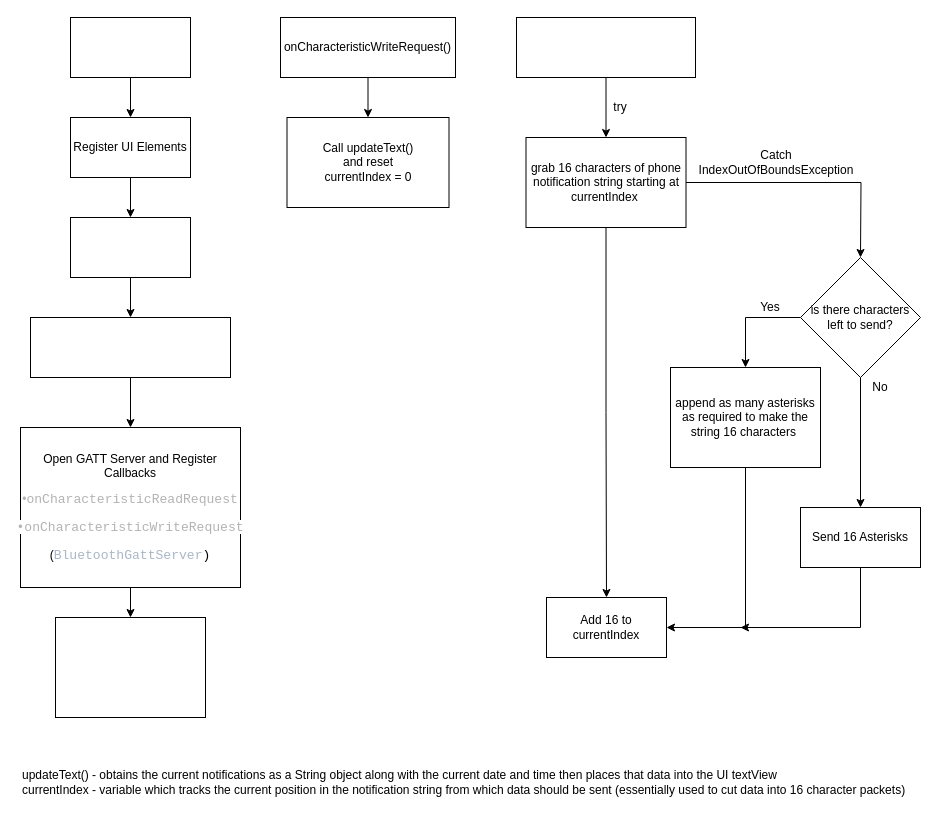
Image size: 938x825. Some labels were removed from this diagram. The shapes that lost their labels are listed below. From the top down, each one's centre as x and y in pixels, then its label:
the point at 130,47: onCreate()
the point at 606,47: onCharacteristicReadRequest()
the point at 130,247: Register Notification Listener Service
the point at 130,347: Configure Advertiser ( BluetoothLeAdvertiser )
the point at 130,667: Add BLE Service and BLE Characteristic with their respective UUIDs
